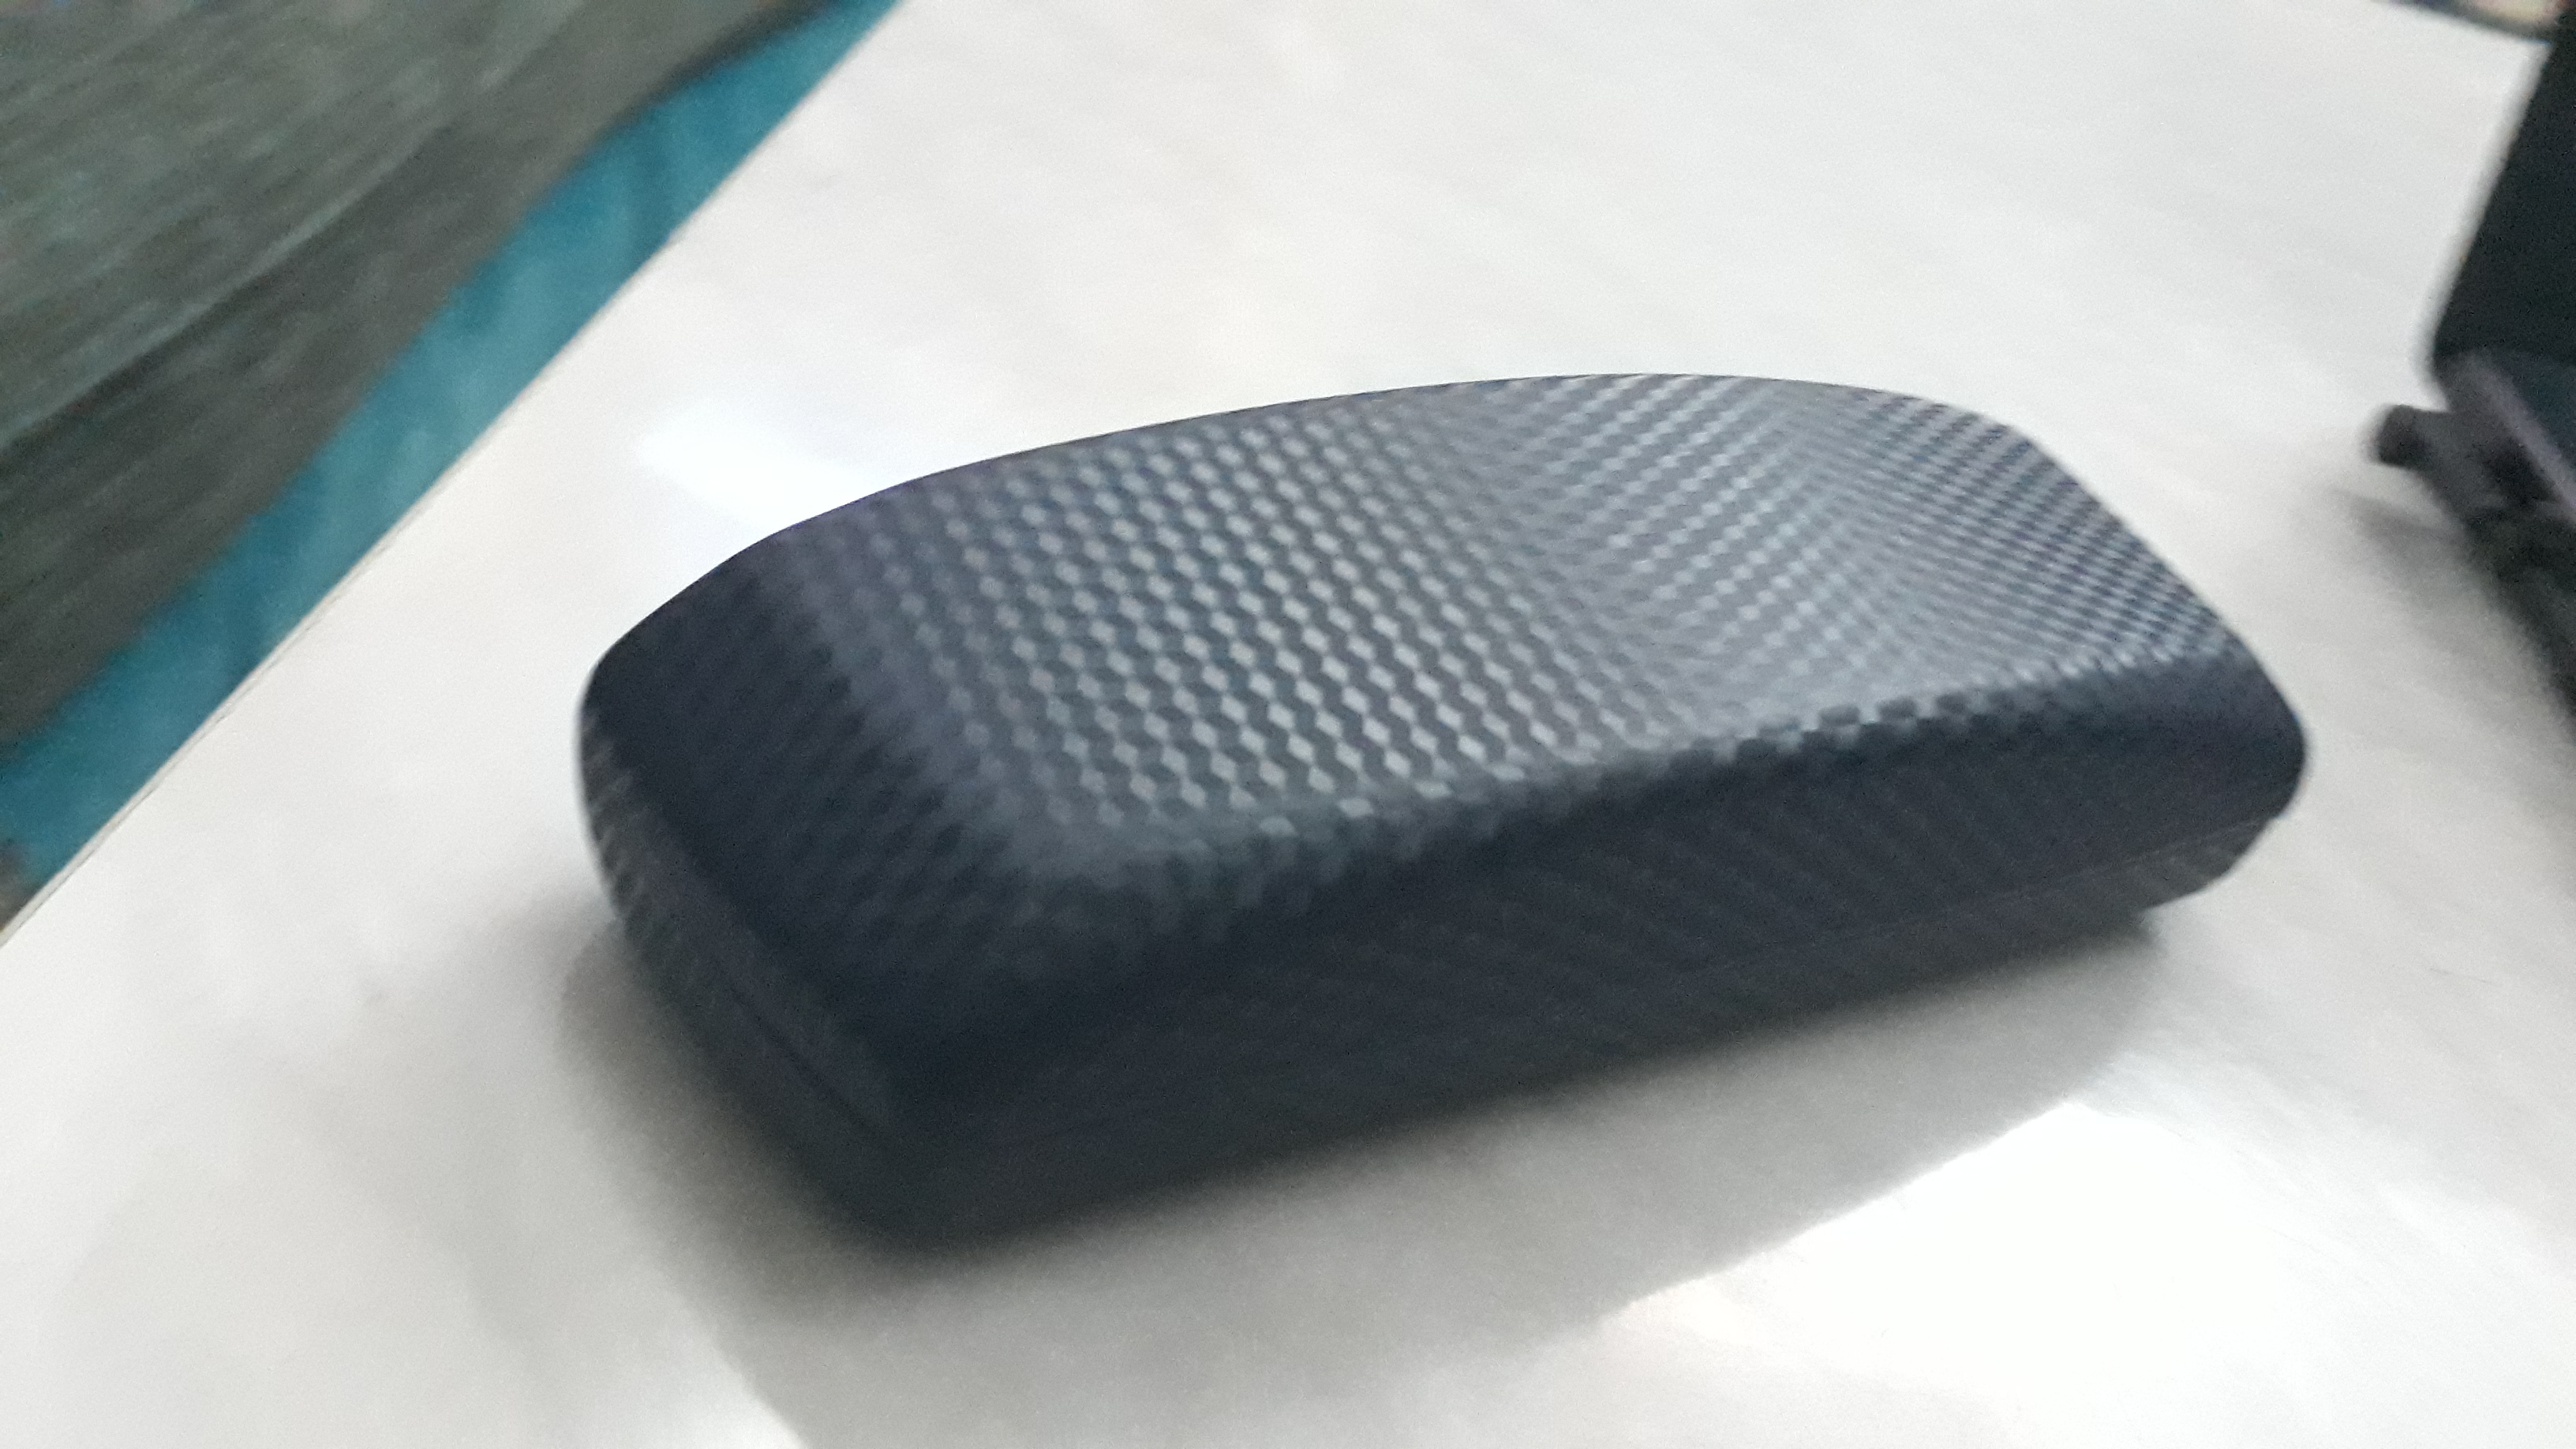nadar: (563, 304, 2319, 1281)
